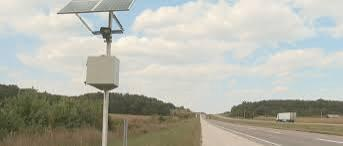Speed-Camera: (82, 49, 125, 94)
